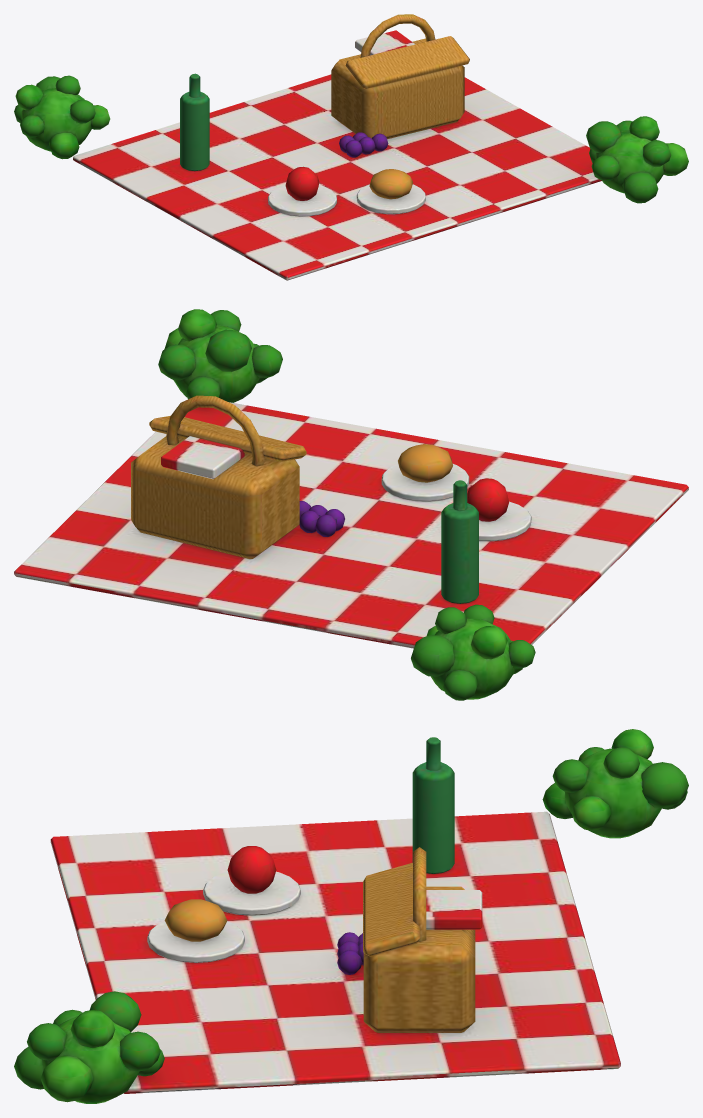
File: picnic_spot.glb
3 renders of one model, top to bottom at view 1: azimuth 30°, elevation 25°; view 2: azimuth 150°, elevation 25°; view 3: azimuth 270°, elevation 25°, orthographic. The views are drawn at different scales.
Parts seen in each view (by area): view 1: picnic_spot; view 2: picnic_spot; view 3: picnic_spot.
Boxes of the visible parts, x1,y1,x2,y2 form: picnic_spot: (14, 14, 688, 280); picnic_spot: (14, 309, 688, 700); picnic_spot: (14, 729, 688, 1103).
Size of the model in its own units: 1.11 by 0.2625 by 0.9665.
1 material, 1 textured.
